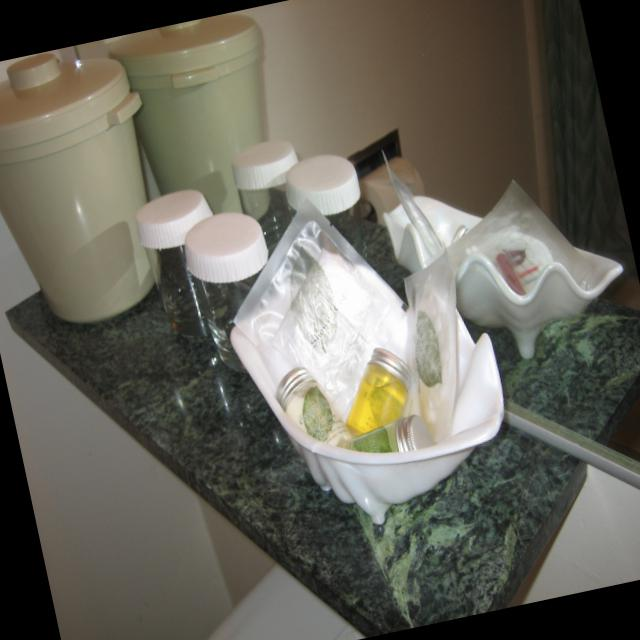bucket crop: (0, 54, 163, 320), (109, 12, 272, 248)
jars: (137, 187, 287, 368), (231, 140, 361, 284)
mirror crop: (72, 0, 640, 464)
toiletpaper: (357, 156, 428, 223)
